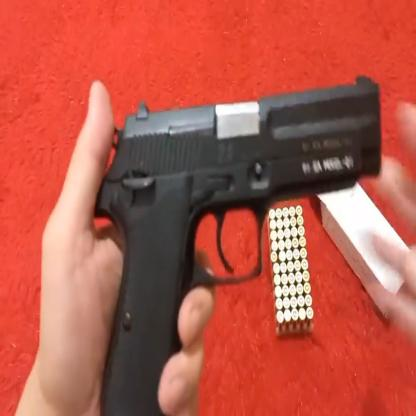handgun: (101, 67, 390, 416)
